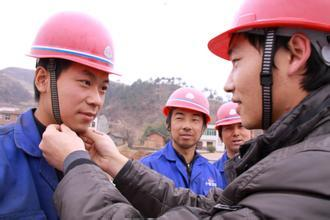helmet: (208, 1, 330, 61), (25, 11, 123, 78), (163, 88, 213, 127), (215, 102, 245, 130)
